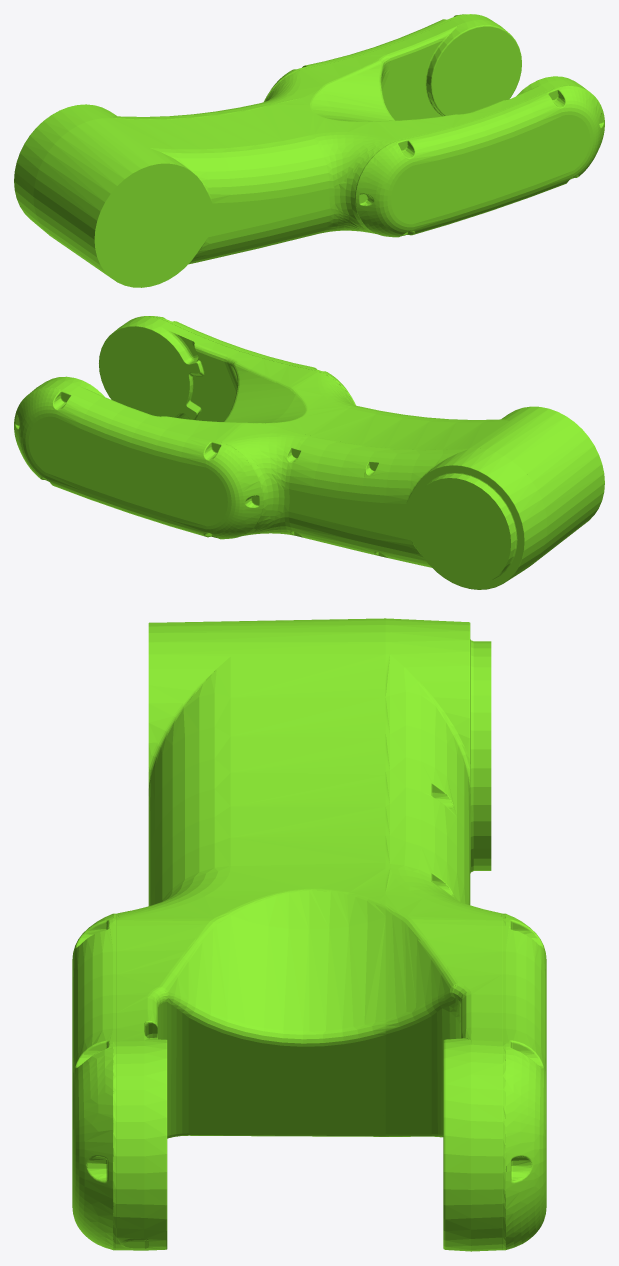
3 views of the same model, one above another, from view 1: azimuth 30°, elevation 25°; view 2: azimuth 150°, elevation 25°; view 3: azimuth 270°, elevation 25° (orthographic). The views are drawn at different scales.
Parts seen in each view (by area): view 1: node; view 2: node; view 3: node.
Boxes of the visible parts, bbox=[...] form: node: bbox=[14, 14, 604, 287]; node: bbox=[14, 316, 604, 589]; node: bbox=[72, 618, 546, 1251].
Size of the model in its own units: 557 by 135 by 227.
